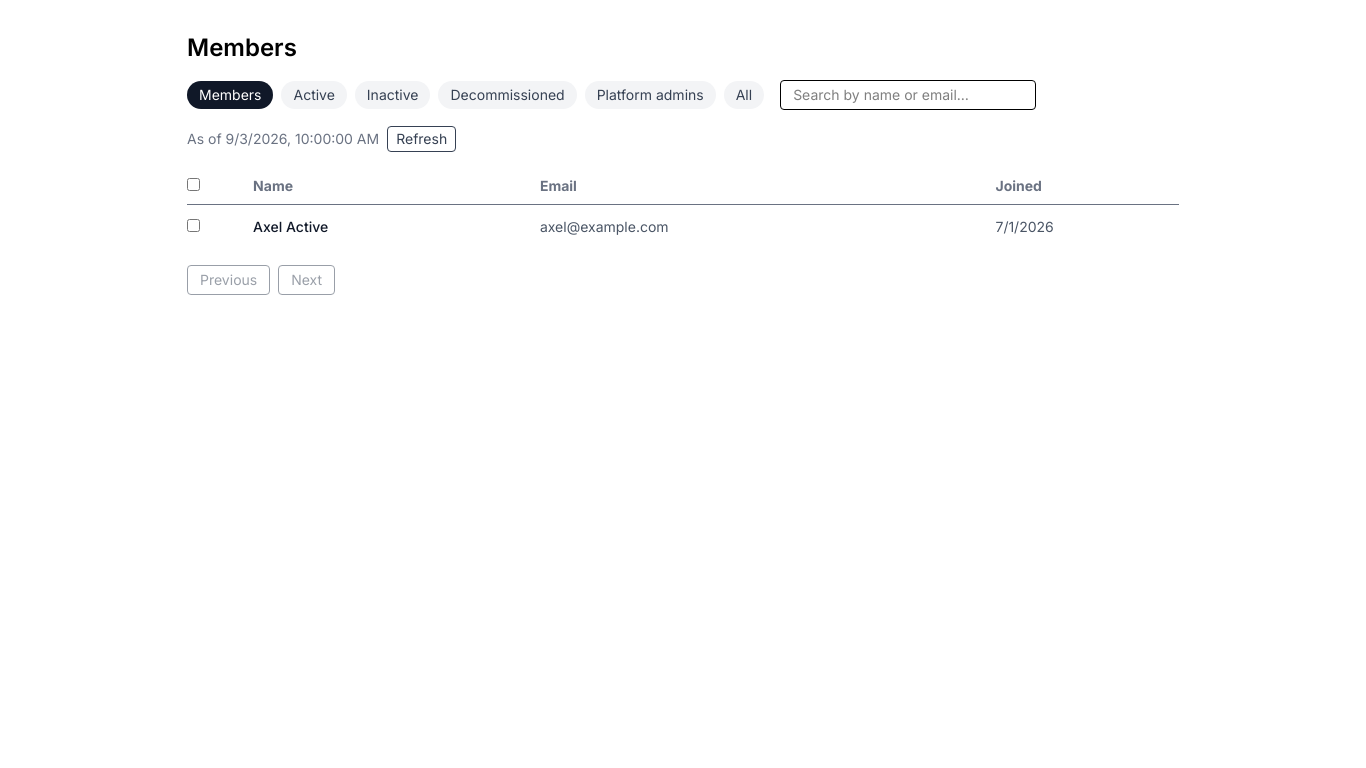
Scenario: AdminMembersList — the bulk hold ceremony carries one reason (FEAT-H049, bulk gap) › bulk force sign-out carries no reason field and confirms as before (labelled pin)
The image size is (1366, 768).
Click the checkbox named "Select Axel Active" at (194, 226), box [187,219,200,232]
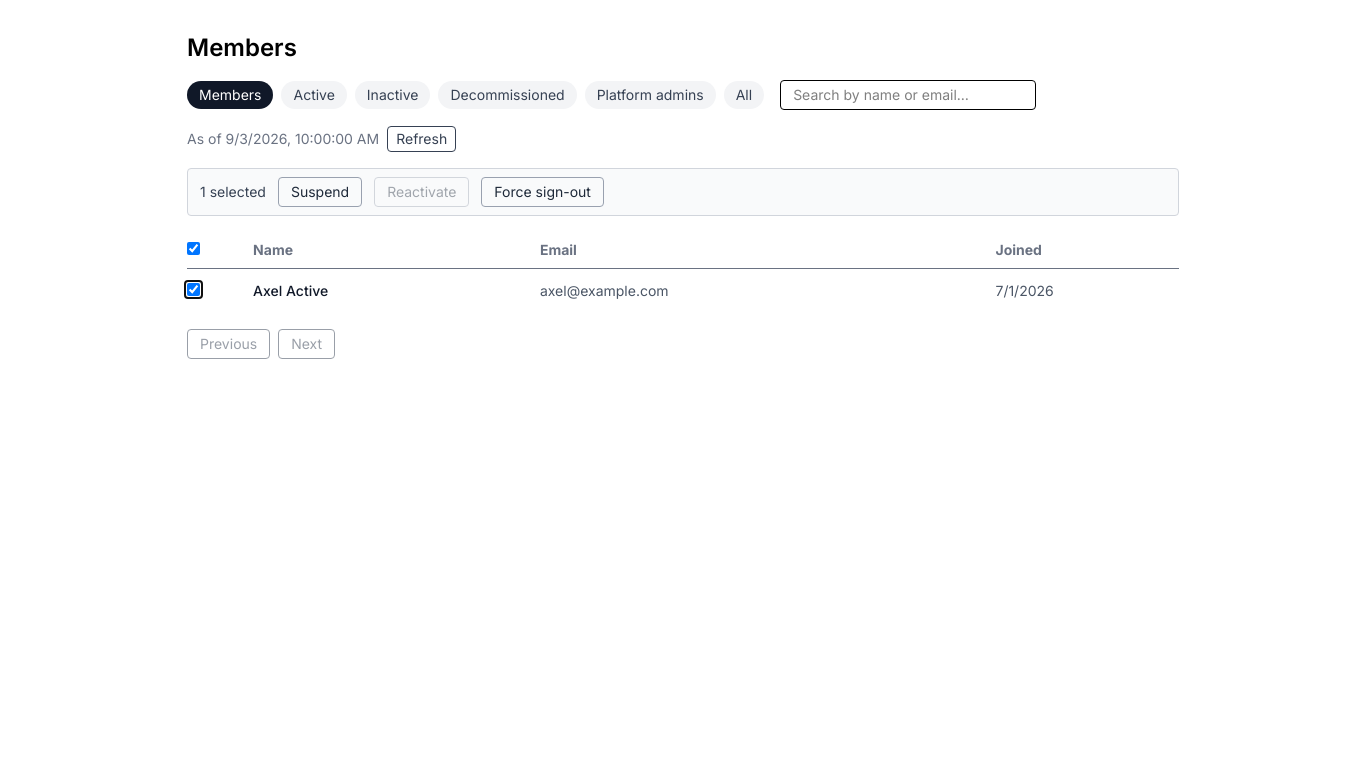
Click the button with test id "bulk-force-logout" at (543, 192), box [481,177,604,207]
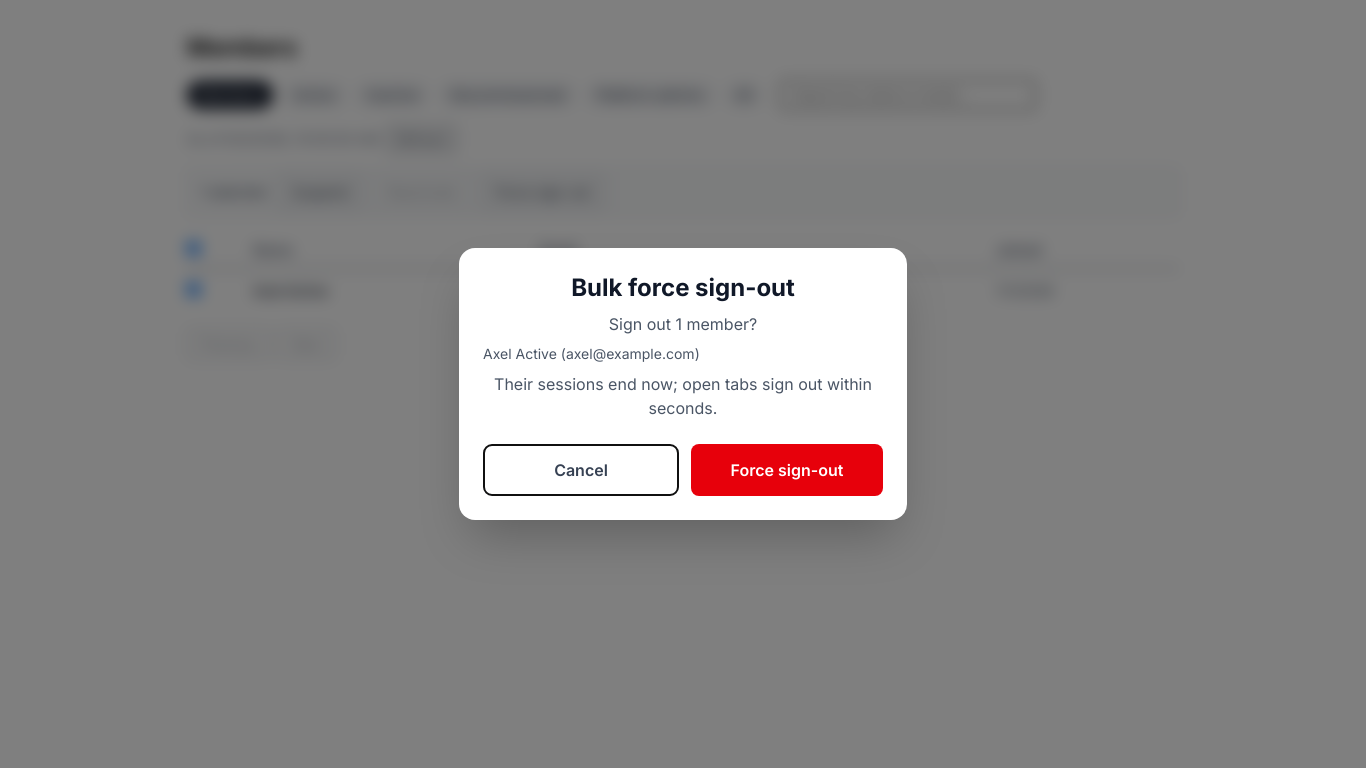
Expected: the button with test id "confirm-modal-confirm" is enabled, [691,444,883,496]
